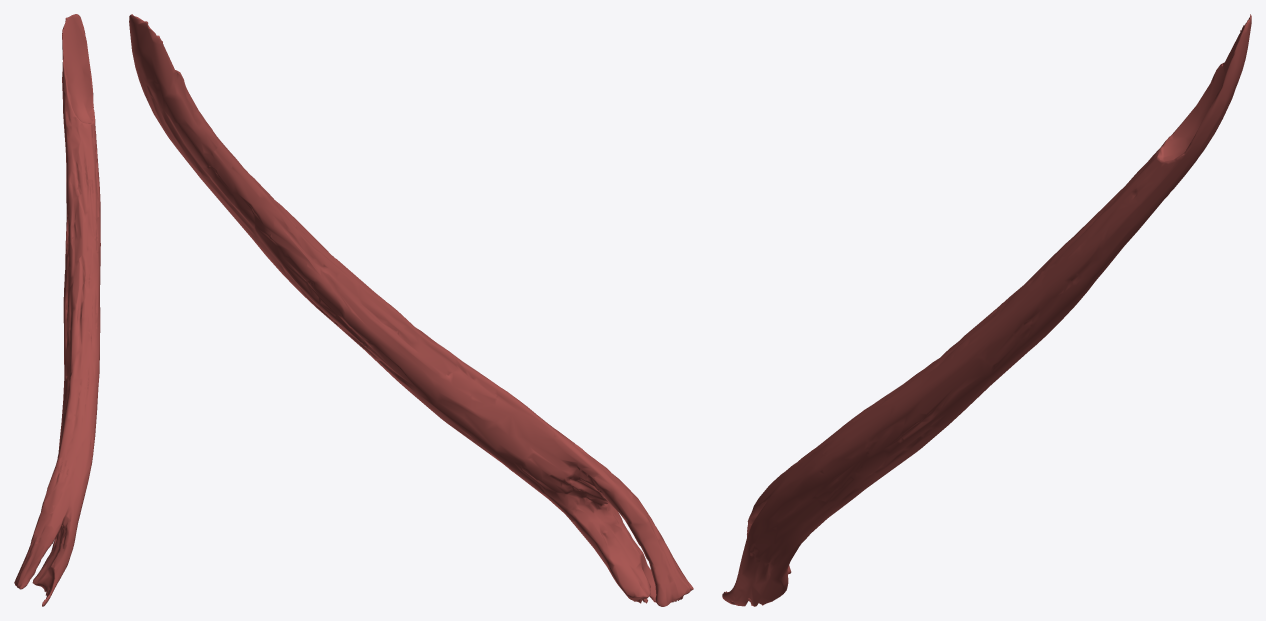
File: FMA45827.glb
3 views of the same model, side by side, from view 1: azimuth 30°, elevation 25°; view 2: azimuth 150°, elevation 25°; view 3: azimuth 270°, elevation 25° (orthographic). The views are drawn at different scales.
Visible parts, largest first — view 1: FMA45827; view 2: FMA45827; view 3: FMA45827.
Boxes of the visible parts, x1,y1,x2,y2 form: FMA45827: [14, 14, 100, 606]; FMA45827: [129, 14, 693, 606]; FMA45827: [722, 14, 1251, 606].
Bounding box in the file's own units: 0.0305 × 0.0606 × 0.0394.
